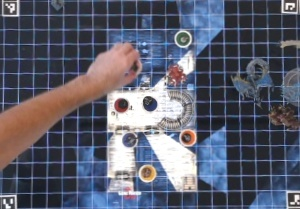blue: (140, 94, 161, 114)
green: (172, 28, 192, 48)
orange: (179, 126, 198, 144)
pink: (122, 56, 145, 79)
red: (112, 96, 130, 113)
violet: (121, 131, 140, 149)
yellow: (134, 160, 156, 184)
